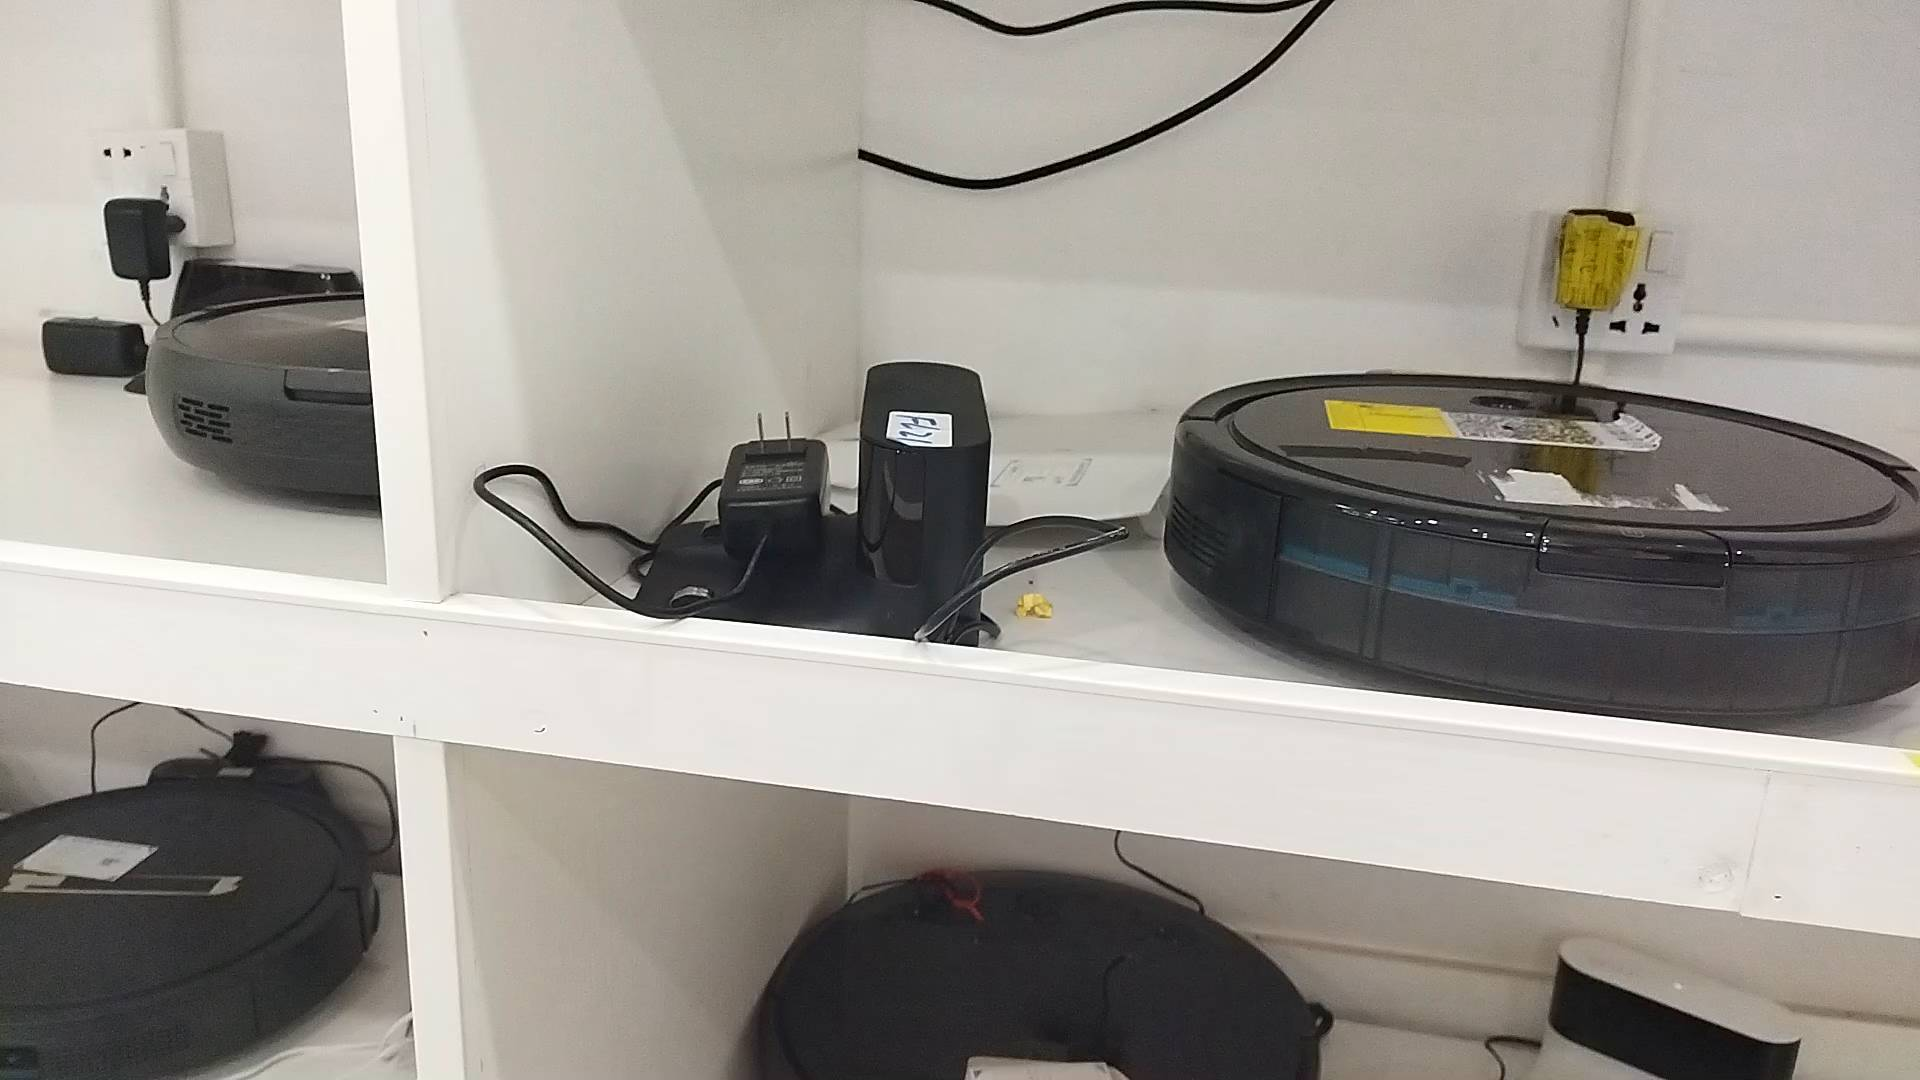recharge seat: (640, 364, 992, 651), (1490, 934, 1804, 1080)
